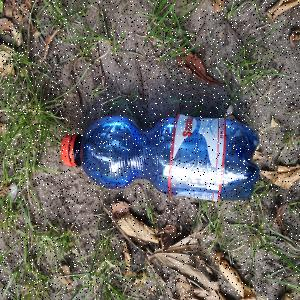Plastic-bottle: (61, 114, 261, 204)
